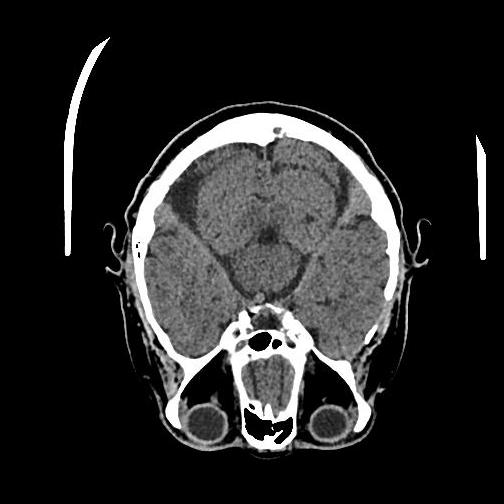Normal_Brain: (96, 99, 438, 461)
